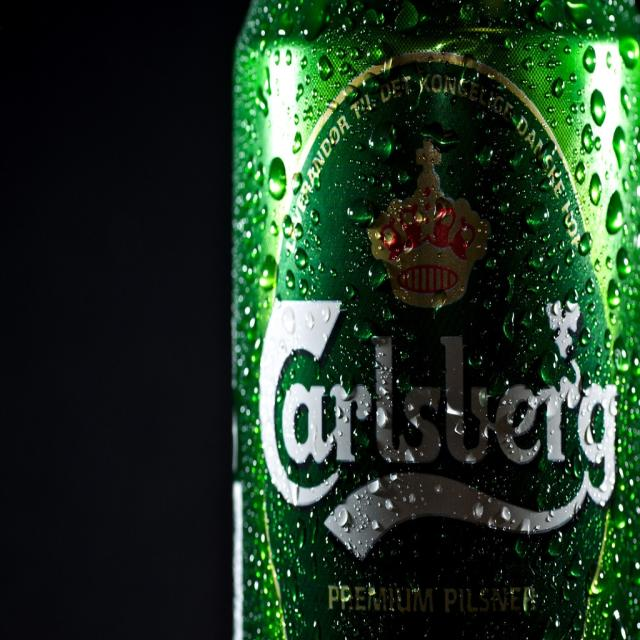carlsberg: (250, 41, 621, 640)
